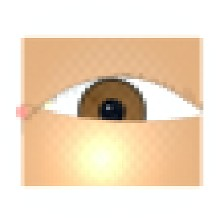pinguecula_lesion: (22, 86, 64, 120)
